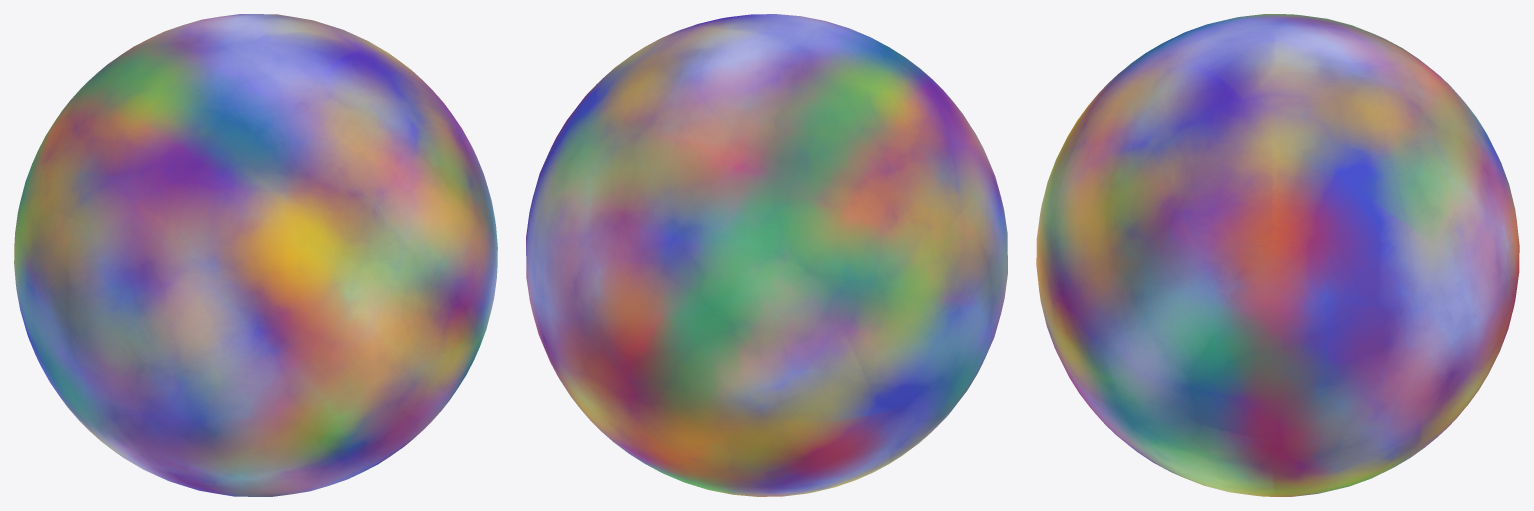
The model's file is dome.glb.
3 renders of one model, left to right at view 1: azimuth 30°, elevation 25°; view 2: azimuth 150°, elevation 25°; view 3: azimuth 270°, elevation 25°, orthographic.
Parts seen in each view (by area): view 1: Object_5; view 2: Object_5; view 3: Object_5.
Part boxes in pixels (box(x1,y1,x2,y2)): Object_5: box(14, 14, 497, 496); Object_5: box(526, 14, 1007, 496); Object_5: box(1036, 14, 1519, 496).
Bounding box in the file's own units: 0.4634 × 0.4627 × 0.4629.
1 material, 1 textured.
